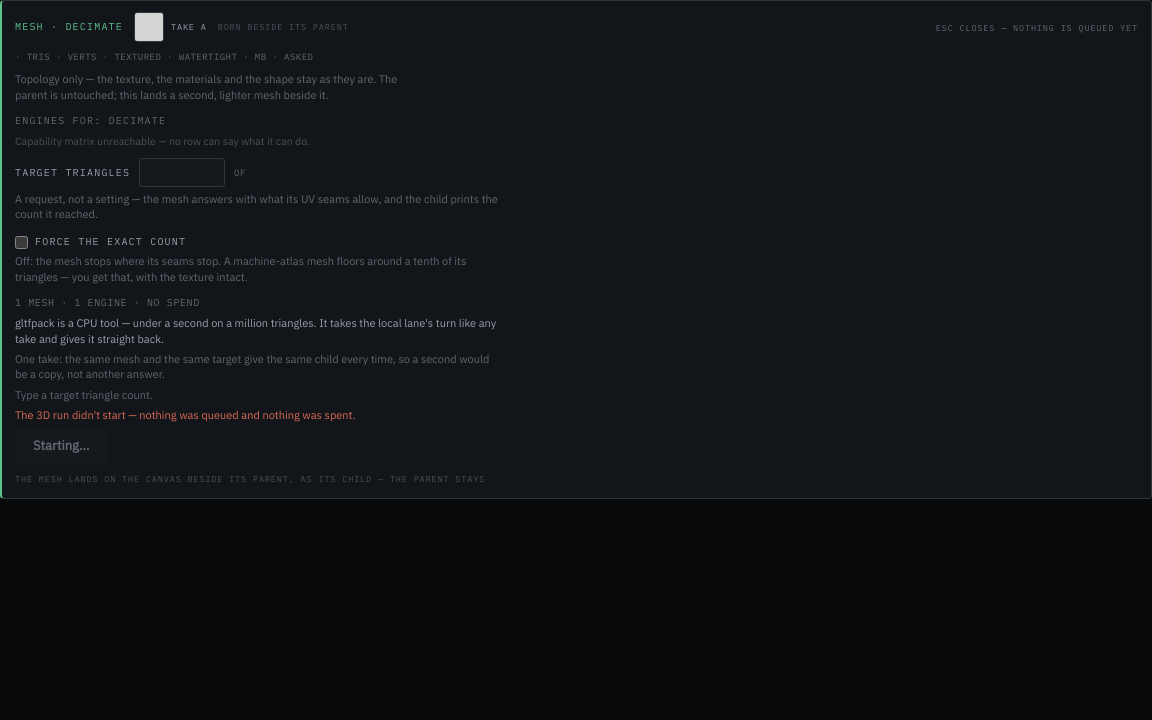
Test case: the force override is off, and says which trade each state makes
expect the text "the mesh stops where its seams stop" is shown: met, box [15,254,466,284]
Click the checkbox labelled "FORCE THE EXACT COUNT" at (22, 242), box [15,236,28,249]
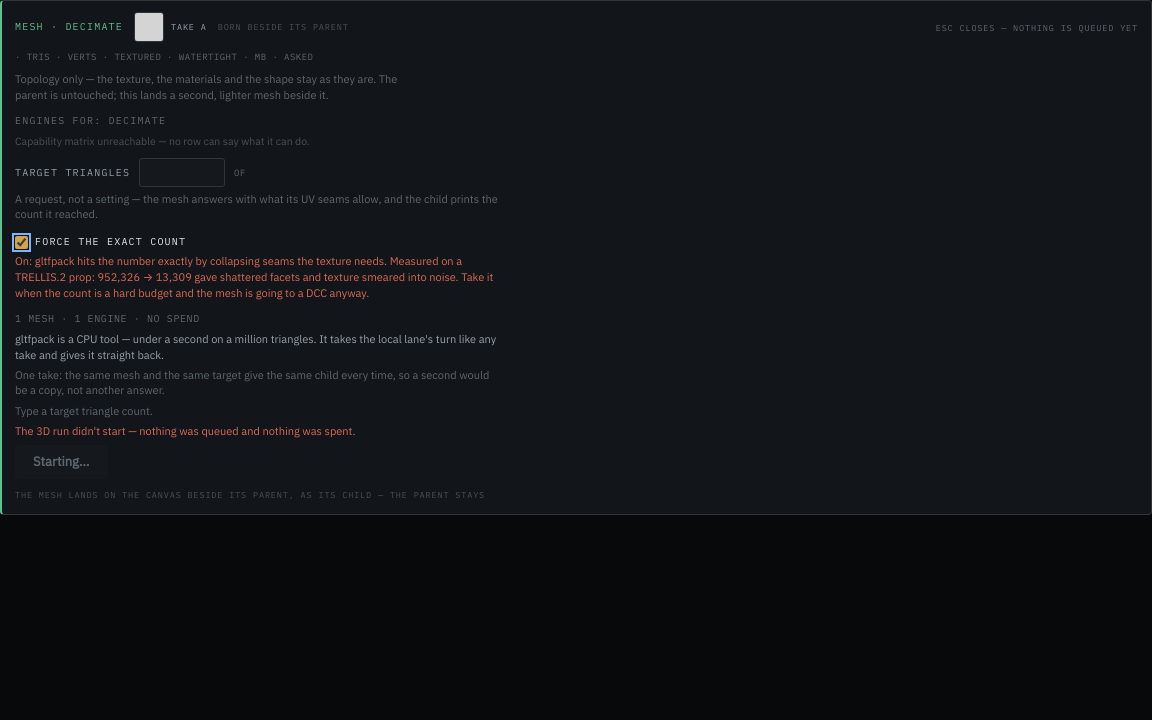
expect the checkbox labelled "FORCE THE EXACT COUNT" is checked: met, box [15,236,28,249]
expect the text "shattered" is shown: met, box [15,254,493,300]
